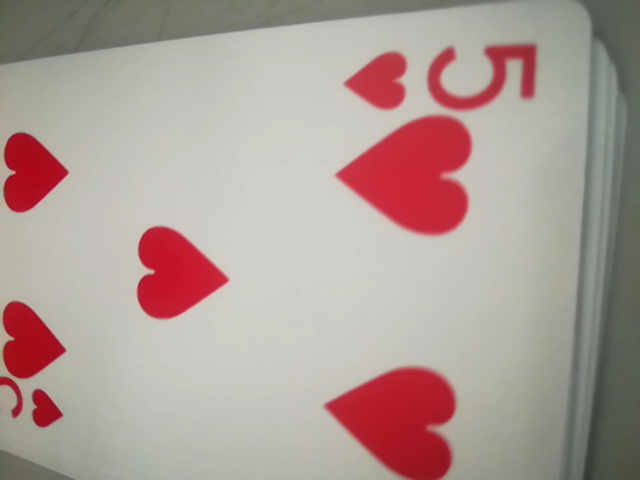hx 5: (341, 28, 542, 118)
